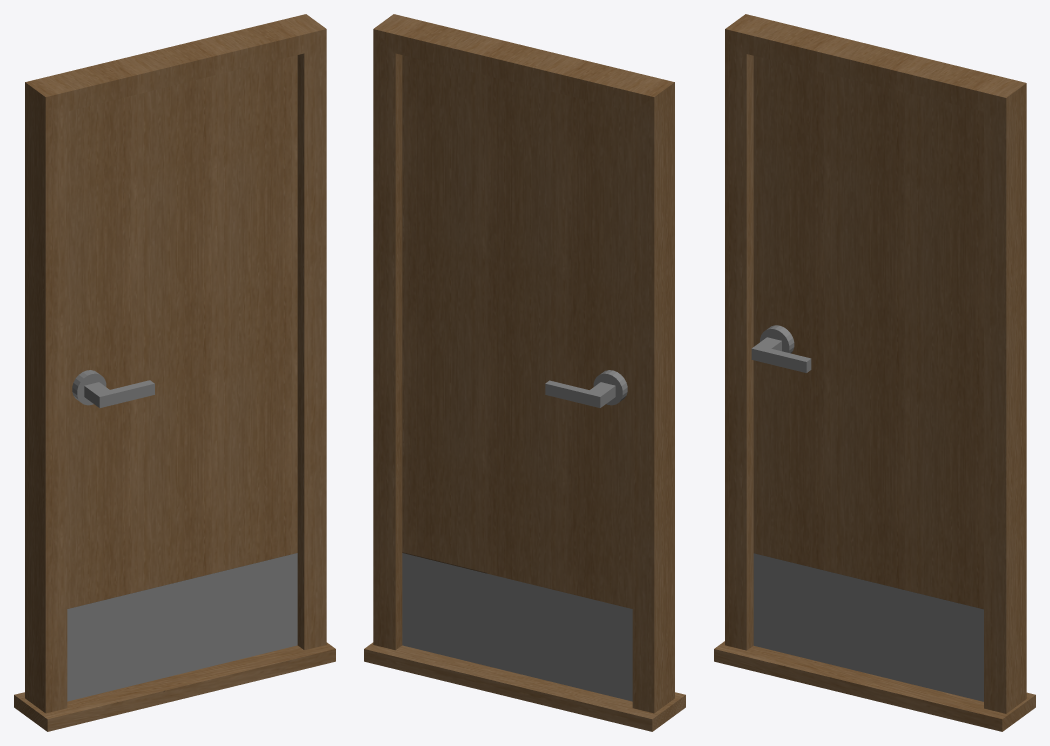
File: door.fbx
3 views of the same model, side by side, from view 1: azimuth 30°, elevation 25°; view 2: azimuth 150°, elevation 25°; view 3: azimuth 330°, elevation 25° (orthographic).
Parts seen in each view (by area): view 1: Cube; view 2: Cube; view 3: Cube.
Boxes of the visible parts, bbox=[...] form: Cube: bbox=[14, 14, 335, 731]; Cube: bbox=[364, 14, 685, 731]; Cube: bbox=[714, 14, 1035, 731].
Bounding box in the file's own units: 91.46 × 191 × 26.42.
